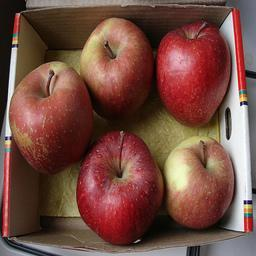apple: (75, 131, 165, 244), (8, 61, 91, 174), (79, 18, 155, 124), (159, 22, 235, 126), (161, 136, 235, 229)
